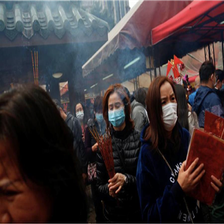mask: (153, 84, 179, 130), (105, 95, 125, 127)
